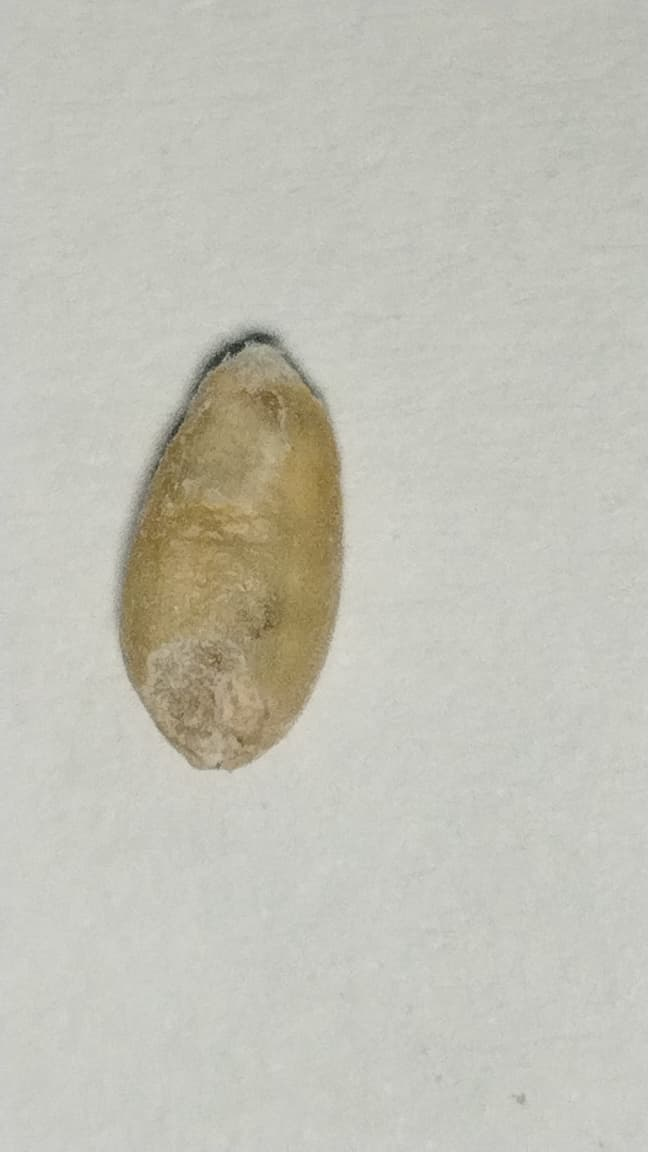damage: (113, 330, 353, 770)
insectdamage: (143, 621, 281, 767), (173, 386, 294, 503)
